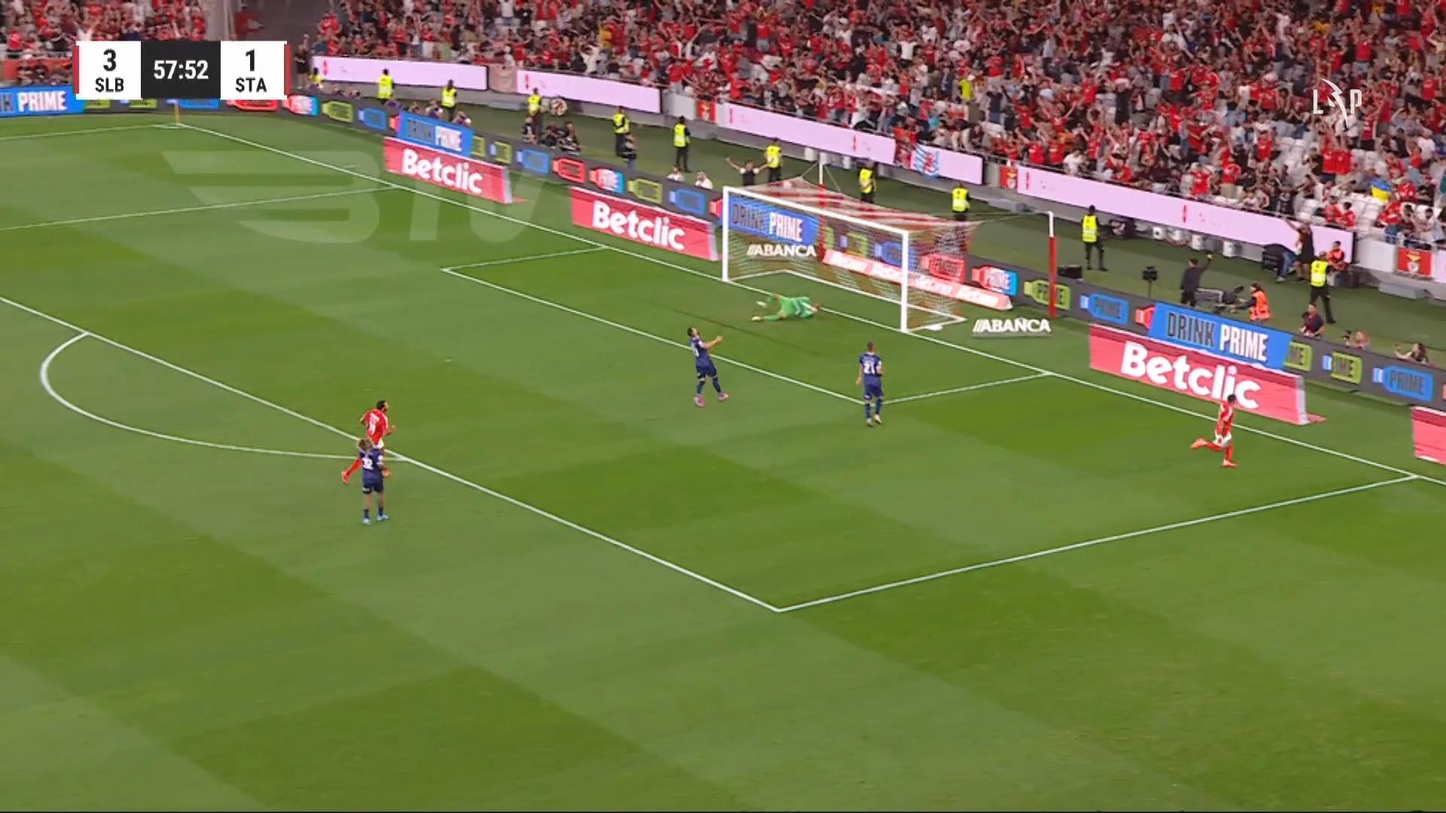goalkeeper: (750, 291, 822, 322)
player: (340, 435, 392, 525), (1189, 391, 1240, 467), (685, 325, 729, 407), (855, 340, 885, 426), (358, 398, 396, 453)
